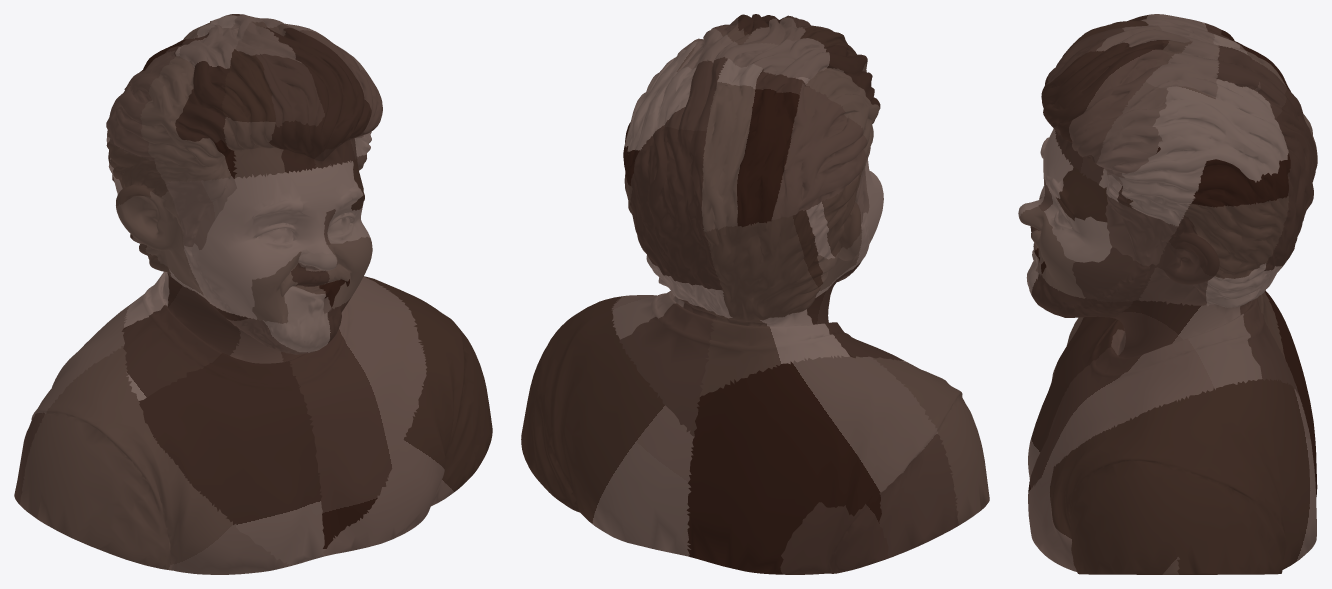
File: avatar-wire.glb
The picture shows the model from 3 angles, left to right: view 1: azimuth 30°, elevation 25°; view 2: azimuth 150°, elevation 25°; view 3: azimuth 270°, elevation 25°; orthographic projection. The views are drawn at different scales.
Parts seen in each view (by area): view 1: mesh_node; view 2: mesh_node; view 3: mesh_node.
Part boxes in pixels (<box>): mesh_node: <box>14,14,492,574</box>; mesh_node: <box>521,14,989,574</box>; mesh_node: <box>1018,14,1317,574</box>.
Bounding box in the file's own units: 0.1169 × 0.12 × 0.0681.
Materials: 1 (1 with a texture image).
